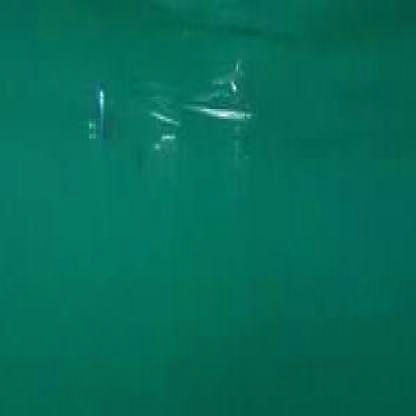pbottle: (71, 52, 257, 186)
